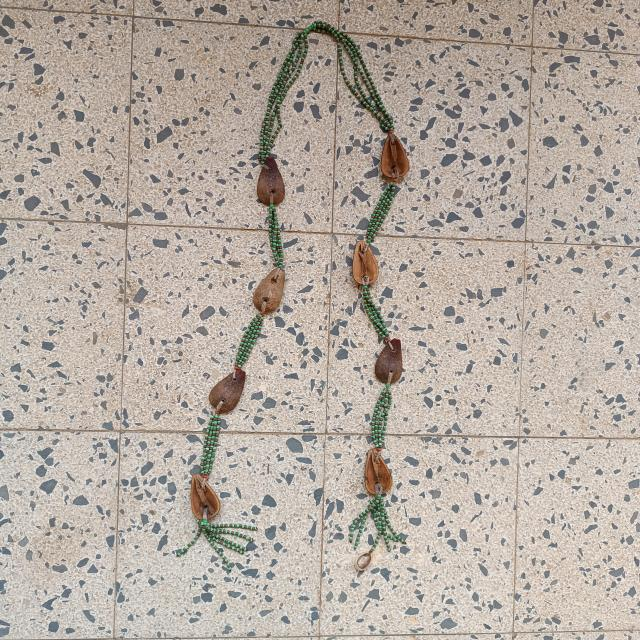facedown: (206, 363, 254, 425), (247, 258, 289, 320), (368, 334, 414, 389), (255, 150, 290, 212)
faceup: (372, 124, 418, 188), (345, 233, 387, 290), (184, 469, 226, 524), (359, 444, 397, 501)
